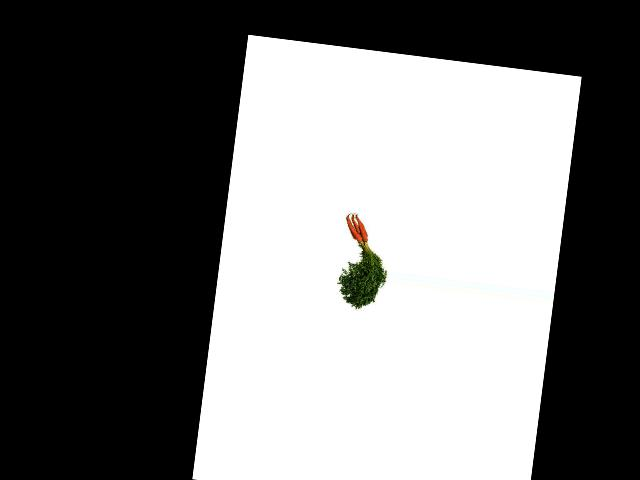carrot: (342, 217, 364, 244)
